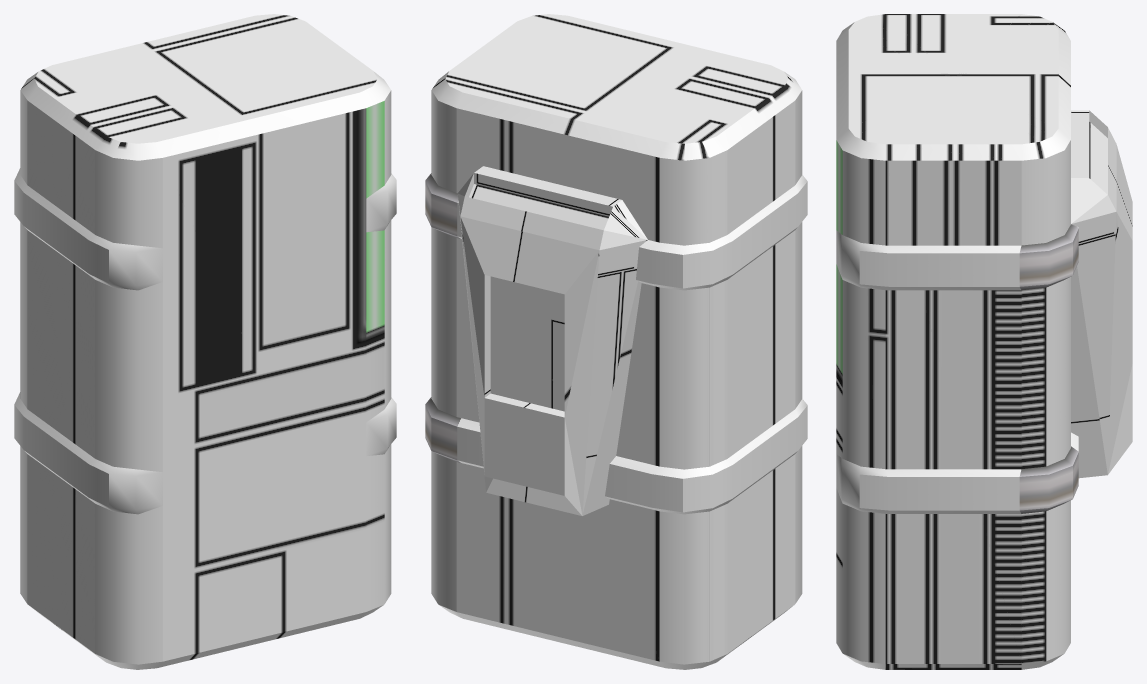
File: multi_left_leg.obj
The picture shows the model from 3 angles, left to right: view 1: azimuth 30°, elevation 25°; view 2: azimuth 150°, elevation 25°; view 3: azimuth 270°, elevation 25°; orthographic projection.
Visible parts, largest first — view 1: custom_left_leg.001_Cube_Cube.001; view 2: custom_left_leg.001_Cube_Cube.001; view 3: custom_left_leg.001_Cube_Cube.001.
Boxes of the visible parts, x1,y1,x2,y2 form: custom_left_leg.001_Cube_Cube.001: [14, 14, 396, 669]; custom_left_leg.001_Cube_Cube.001: [425, 14, 807, 669]; custom_left_leg.001_Cube_Cube.001: [836, 14, 1132, 669].
Bounding box in the file's own units: 5.57 × 9.4 × 4.8.
